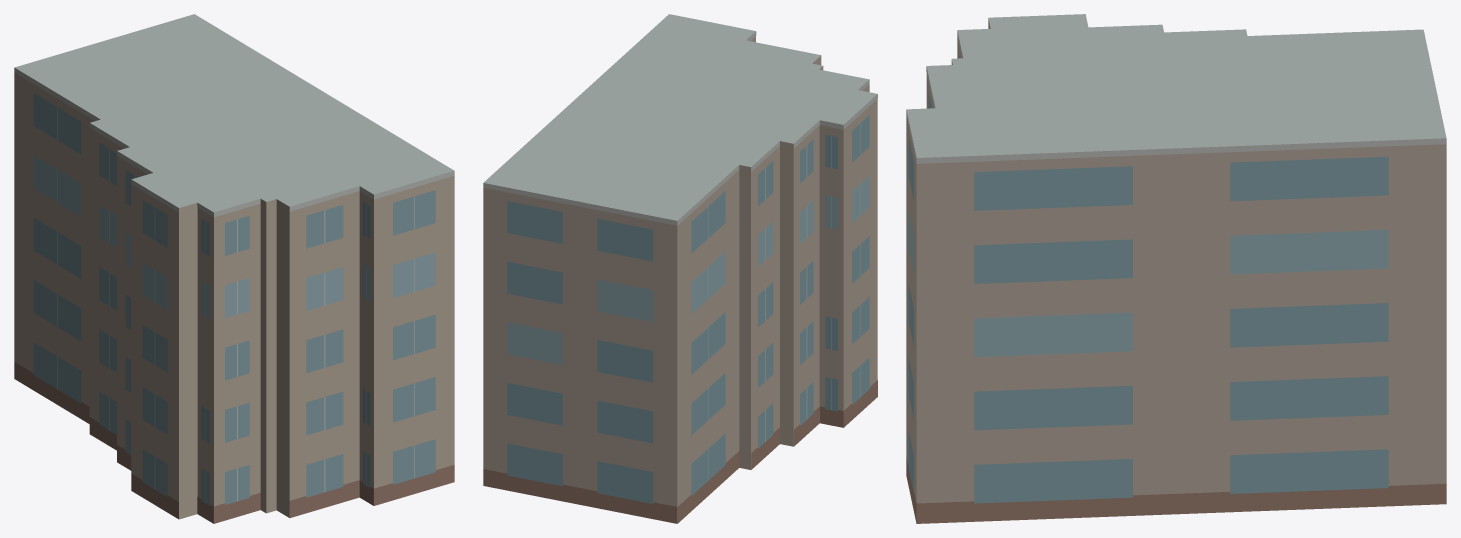
File: survey-upis-32953266.glb
3 renders of one model, left to right at view 1: azimuth 30°, elevation 25°; view 2: azimuth 150°, elevation 25°; view 3: azimuth 270°, elevation 25°, orthographic. The views are drawn at different scales.
Parts seen in each view (by area): view 1: survey-upis-32953266.tmp; view 2: survey-upis-32953266.tmp; view 3: survey-upis-32953266.tmp.
Boxes of the visible parts, x1=… form: survey-upis-32953266.tmp: x1=14, y1=14, x2=454, y2=523; survey-upis-32953266.tmp: x1=483, y1=14, x2=877, y2=523; survey-upis-32953266.tmp: x1=906, y1=14, x2=1446, y2=523.
Bounding box in the file's own units: 12.89 × 15.25 × 20.42.
